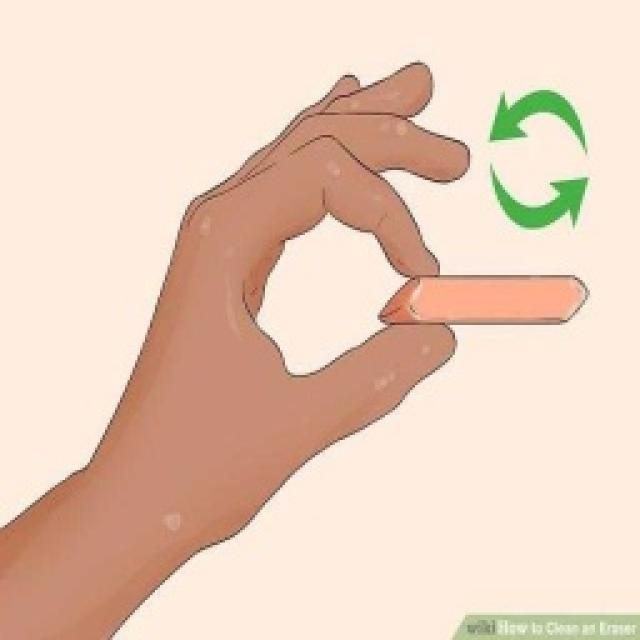Silgi: (376, 275, 592, 326)
